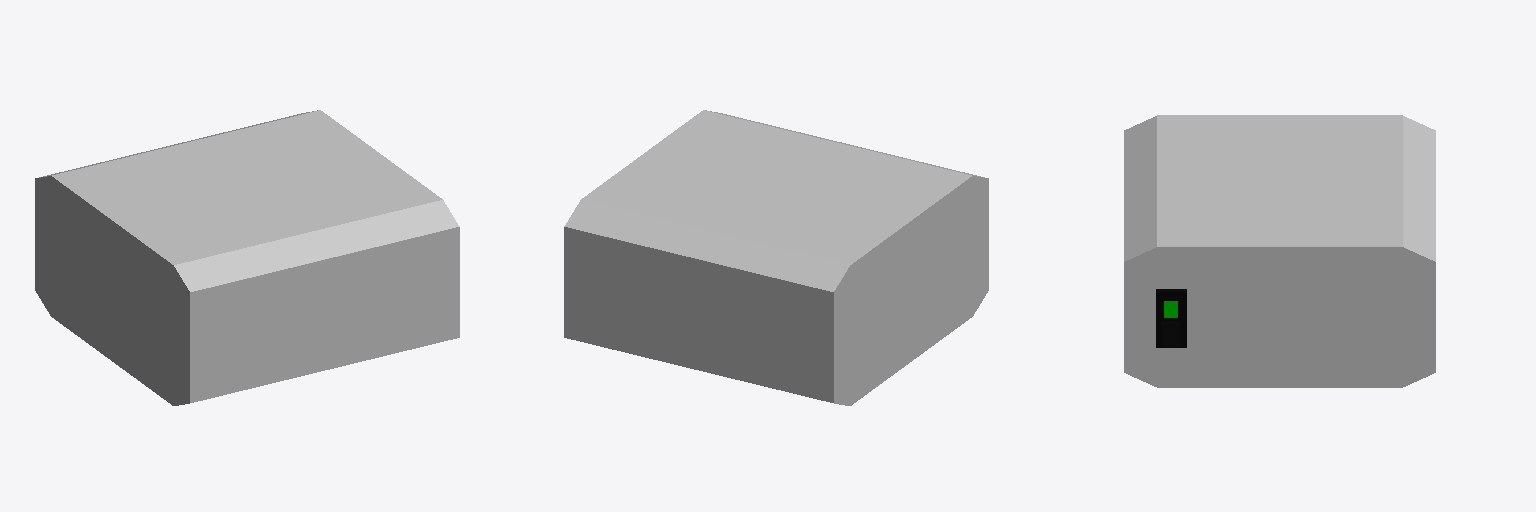
The model's file is 06_Lightning.obj.
3 views of the same model, side by side, from view 1: azimuth 30°, elevation 25°; view 2: azimuth 150°, elevation 25°; view 3: azimuth 270°, elevation 25° (orthographic).
Parts seen in each view (by area): view 1: Cube; view 2: Cube; view 3: Cube, Cube.001, Cube.002.
Part boxes in pixels (bbox=[...]): Cube: bbox=[35, 110, 459, 405]; Cube: bbox=[564, 110, 988, 405]; Cube: bbox=[1124, 115, 1435, 387]; Cube.001: bbox=[1156, 289, 1186, 347]; Cube.002: bbox=[1162, 297, 1179, 345].
Bounding box in the file's own units: 2.13 × 1 × 2.